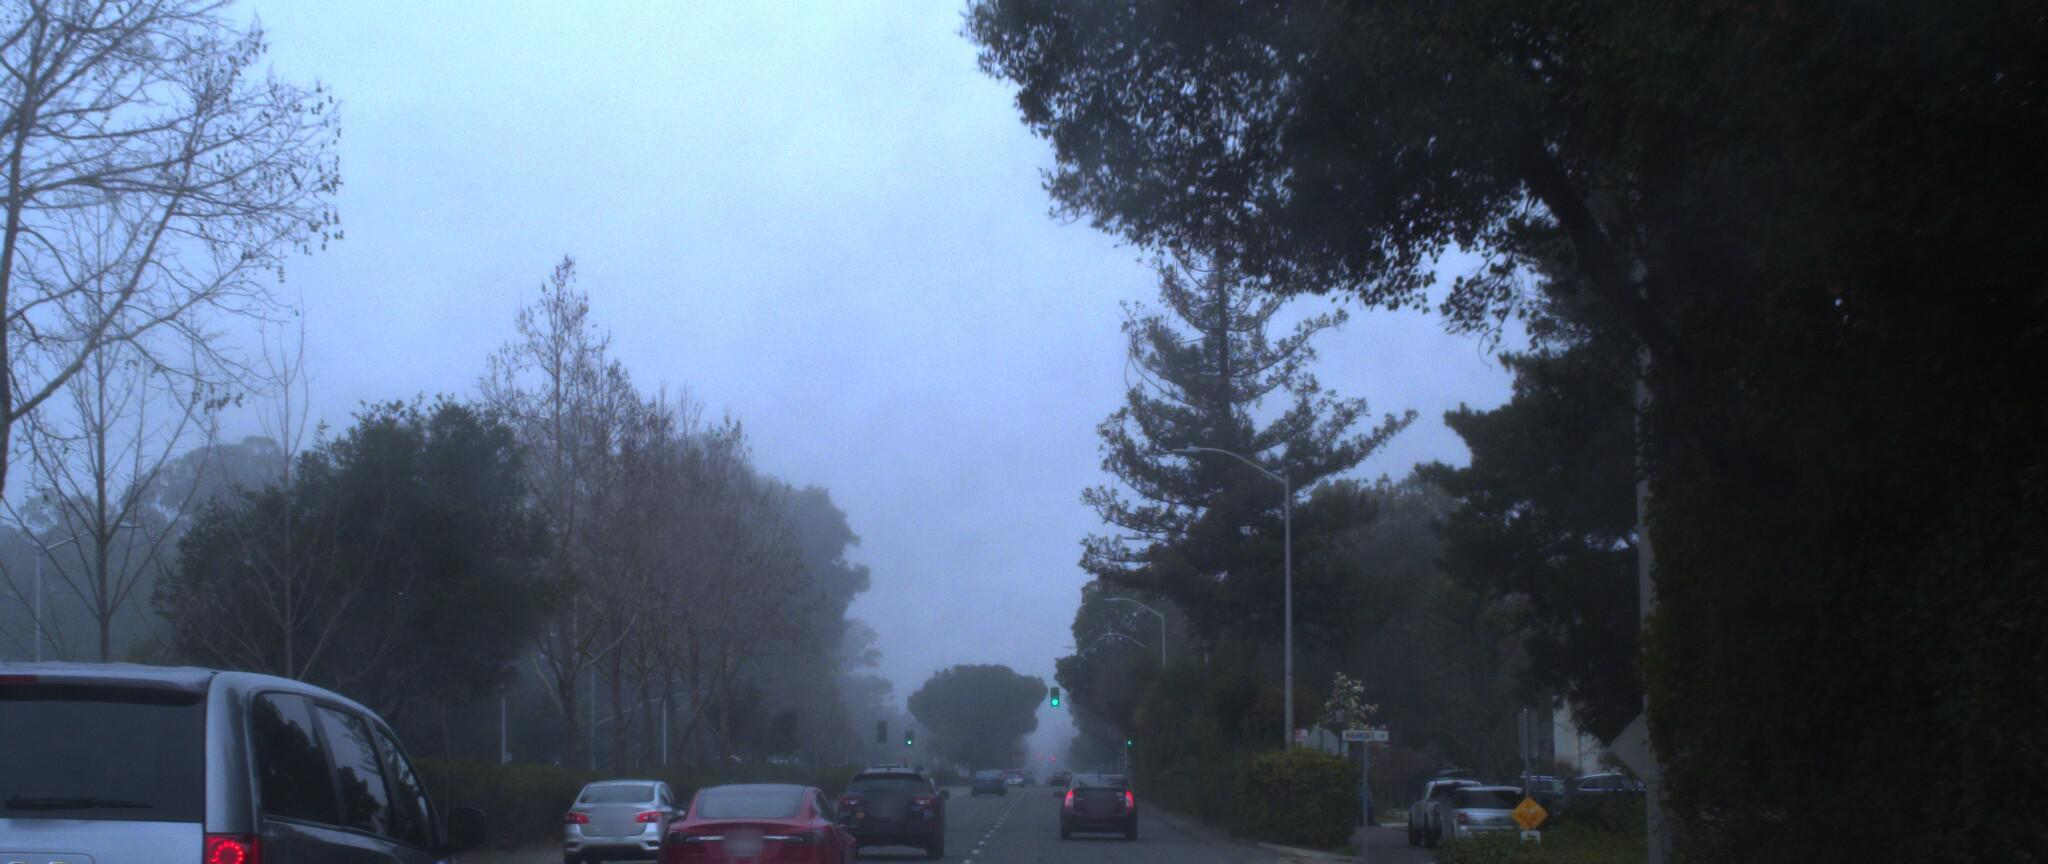car: (0, 636, 522, 864), (653, 757, 865, 864), (564, 756, 700, 855), (831, 743, 942, 842), (1395, 760, 1506, 831), (1057, 739, 1143, 824)
